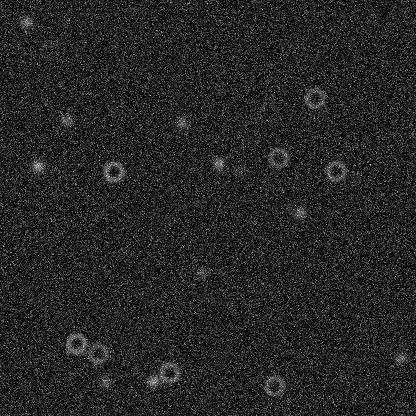Ring: (38, 38, 62, 62), (302, 86, 326, 110), (157, 360, 181, 384), (255, 99, 279, 123), (101, 159, 125, 183), (85, 341, 109, 365), (64, 331, 88, 355), (266, 145, 290, 169), (262, 373, 286, 397), (323, 158, 347, 182)
Spot: (210, 155, 226, 171), (392, 349, 408, 365), (117, 242, 133, 258), (58, 111, 74, 127), (18, 13, 34, 29), (29, 157, 45, 173), (144, 373, 160, 389), (173, 115, 189, 131), (193, 264, 209, 280), (97, 373, 113, 389), (291, 204, 307, 220), (229, 163, 245, 179)
